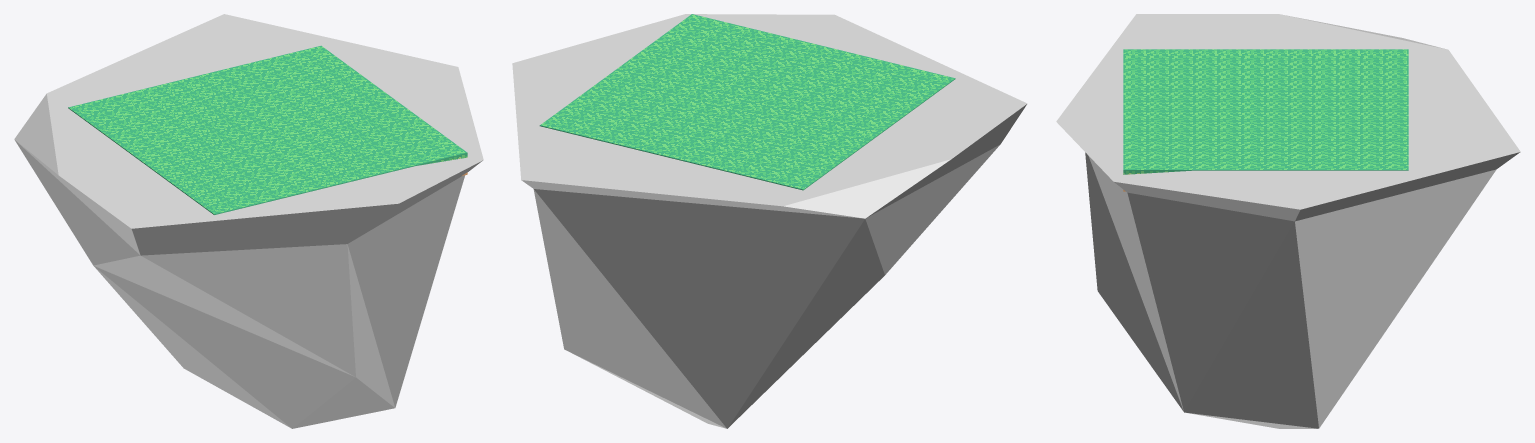
The model's file is smallIsland.fbx.
3 views of the same model, side by side, from view 1: azimuth 30°, elevation 25°; view 2: azimuth 150°, elevation 25°; view 3: azimuth 270°, elevation 25° (orthographic). The views are drawn at different scales.
Parts seen in each view (by area): view 1: Icosphere, cube; view 2: Icosphere, cube; view 3: Icosphere, cube.
Part boxes in pixels (x1,y1,x2,y2): Icosphere: [14, 14, 483, 428]; cube: [68, 45, 467, 214]; Icosphere: [512, 14, 1027, 428]; cube: [539, 14, 955, 190]; Icosphere: [1056, 14, 1520, 428]; cube: [1123, 49, 1408, 191].
Size of the model in its own units: 1948 by 1412 by 1954.
